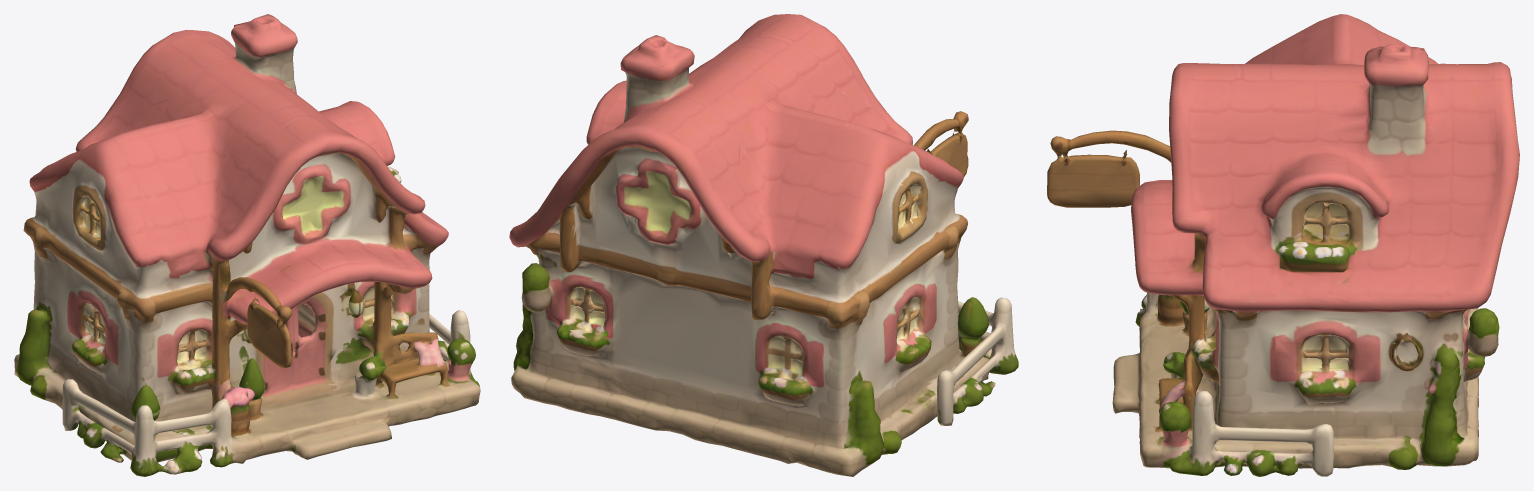
3 views of the same model, side by side, from view 1: azimuth 30°, elevation 25°; view 2: azimuth 150°, elevation 25°; view 3: azimuth 270°, elevation 25° (orthographic). The views are drawn at different scales.
Parts seen in each view (by area): view 1: tripo_node_dda5e38c-9a38-4301-9a58-ef35a295556d; view 2: tripo_node_dda5e38c-9a38-4301-9a58-ef35a295556d; view 3: tripo_node_dda5e38c-9a38-4301-9a58-ef35a295556d.
Part boxes in pixels (left/top/right/bottom): tripo_node_dda5e38c-9a38-4301-9a58-ef35a295556d: left=14, top=14, right=480, bottom=476; tripo_node_dda5e38c-9a38-4301-9a58-ef35a295556d: left=509, top=14, right=1018, bottom=476; tripo_node_dda5e38c-9a38-4301-9a58-ef35a295556d: left=1047, top=14, right=1519, bottom=476.
Bounding box in the file's own units: 5.29 × 4.5 × 5.27.
Materials: 1 (1 with a texture image).
